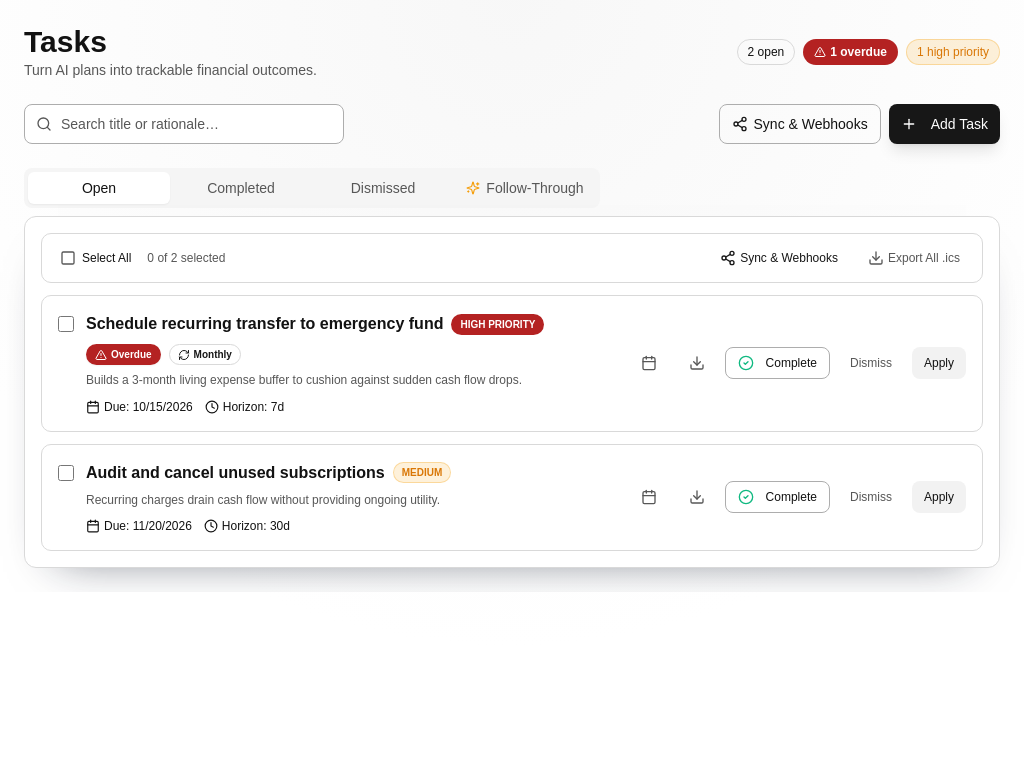
it: TasksPage › switches to Completed tab and renders empty state with prompt
expect the text "Schedule recurring transfer to emergency fund" is shown: met, box [86,312,443,336]
Step 1. Press the mouse on the tab "Completed" → (241, 188), box [170,172,312,204]
Step 2. Press Enter in the tab "Completed", box [170,172,312,204]
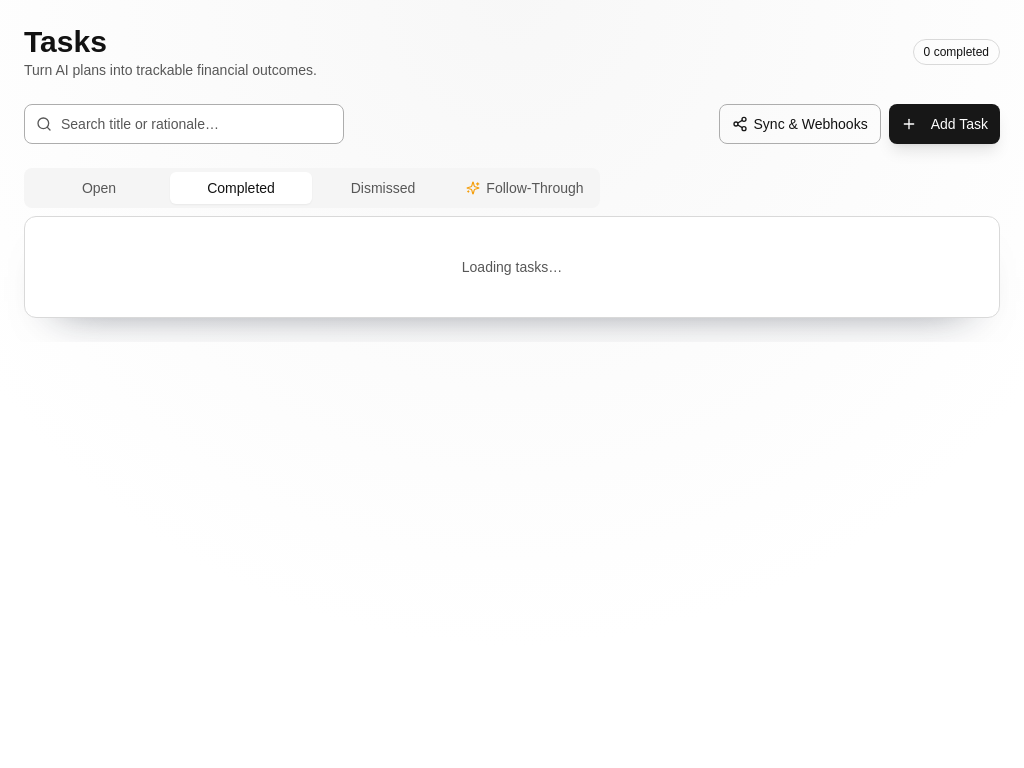
Step 3. Click the tab "Completed" → (241, 188), box [170,172,312,204]
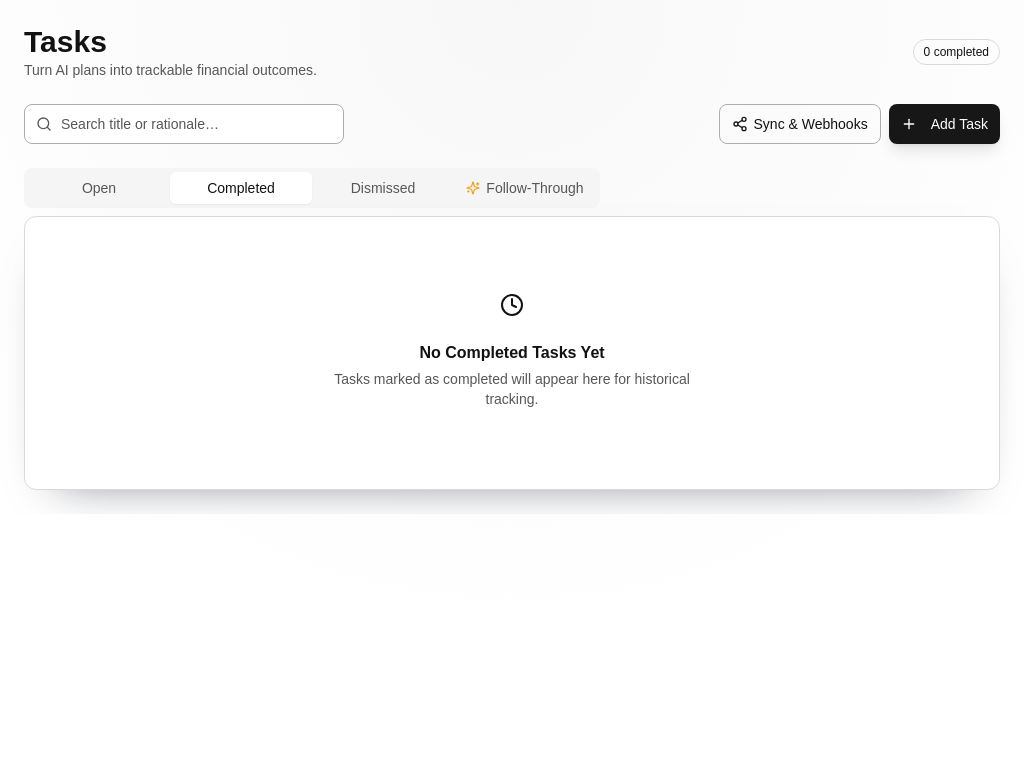
expect the heading "No Completed Tasks Yet" is shown: met, box [419,341,605,365]
expect the text "Tasks marked as completed will appear here for historical tracking." is shown: met, box [320,369,704,409]
